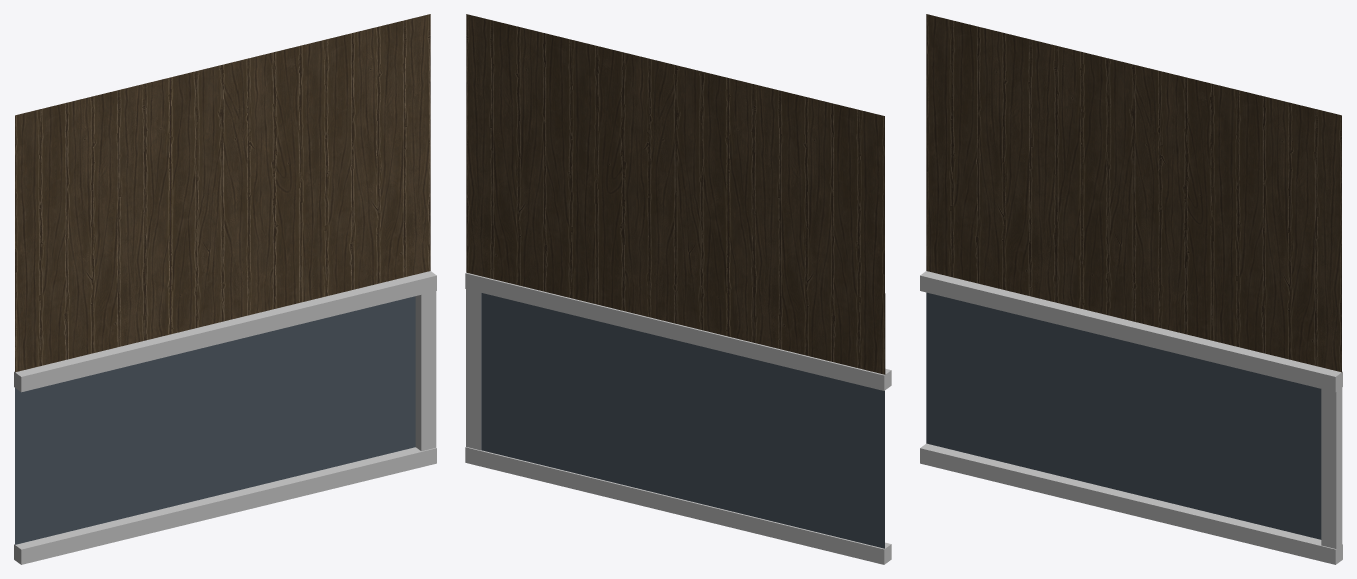
File: SM_WallPiece_00.fbx
3 renders of one model, left to right at view 1: azimuth 30°, elevation 25°; view 2: azimuth 150°, elevation 25°; view 3: azimuth 330°, elevation 25°, orthographic.
Parts seen in each view (by area): view 1: polySurface5; view 2: polySurface5; view 3: polySurface5.
Part boxes in pixels (left/top/right/bottom): polySurface5: left=14, top=14, right=436, bottom=564; polySurface5: left=465, top=14, right=891, bottom=564; polySurface5: left=920, top=14, right=1342, bottom=564.
Size of the model in its own units: 440 by 450 by 13.34.
